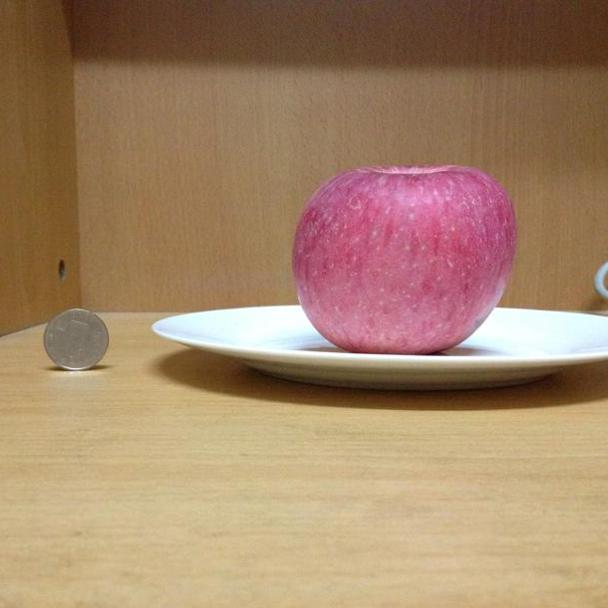apple: (290, 164, 521, 356)
